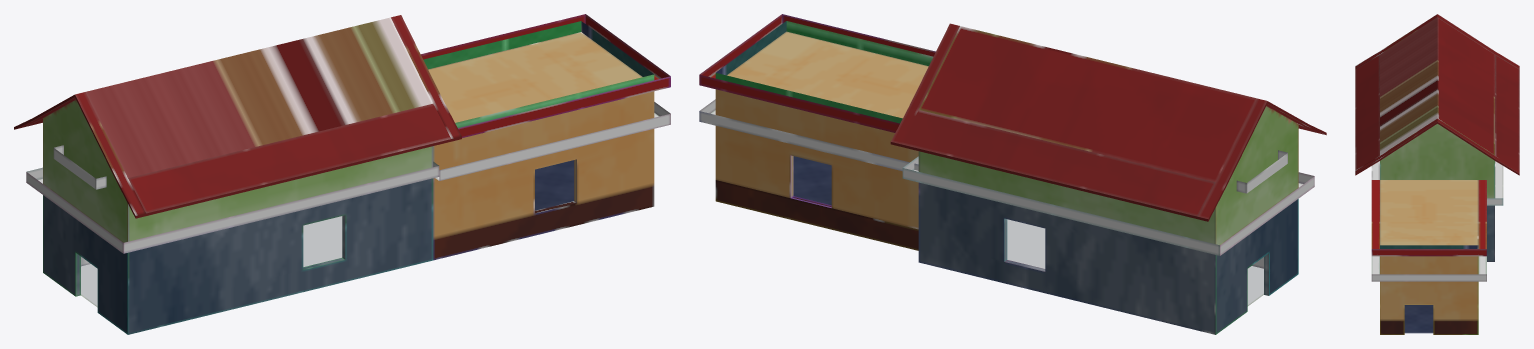
File: m_bat_open.fbx
The picture shows the model from 3 angles, left to right: view 1: azimuth 30°, elevation 25°; view 2: azimuth 150°, elevation 25°; view 3: azimuth 270°, elevation 25°; orthographic projection. The views are drawn at different scales.
Visible parts, largest first — view 1: Cube.011; view 2: Cube.011; view 3: Cube.011.
Boxes of the visible parts, <box> form: Cube.011: <box>14,14,670,334</box>; Cube.011: <box>699,14,1326,334</box>; Cube.011: <box>1355,14,1519,334</box>.
Bounding box in the file's own units: 5200 × 1924 × 2000.
Materials: 1 (1 with a texture image).
